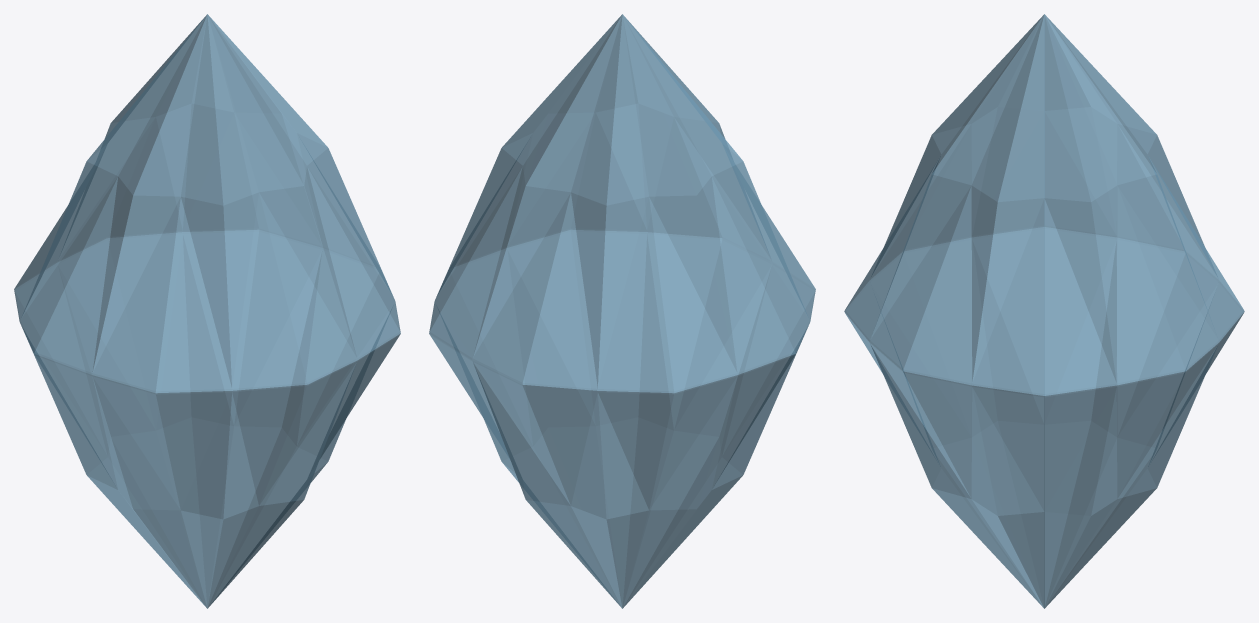
Rendered from crystal4bai.fbx.
3 renders of one model, left to right at view 1: azimuth 30°, elevation 25°; view 2: azimuth 150°, elevation 25°; view 3: azimuth 270°, elevation 25°, orthographic.
Parts seen in each view (by area): view 1: pCylinder1; view 2: pCylinder1; view 3: pCylinder1.
Part boxes in pixels (x1,y1,x2,y2): pCylinder1: (14,14,400,608); pCylinder1: (429,14,815,608); pCylinder1: (844,14,1244,608).
Bounding box in the file's own units: 476 × 781 × 476.
